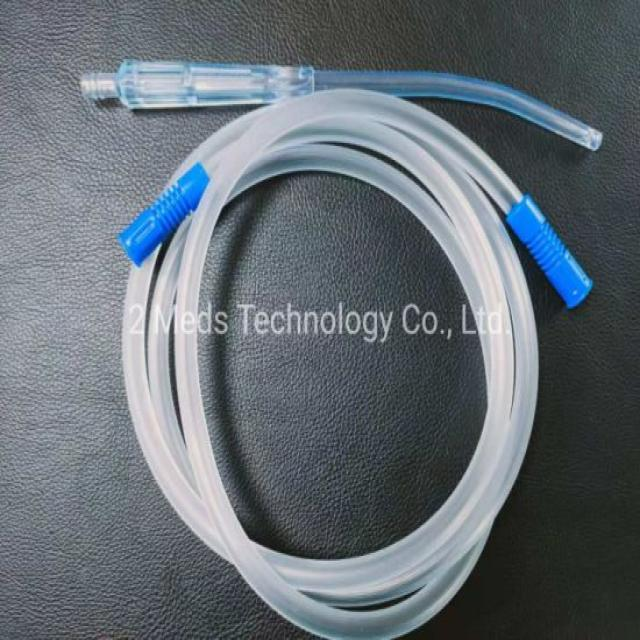Suction Tube Nozzle: (70, 45, 608, 640)
